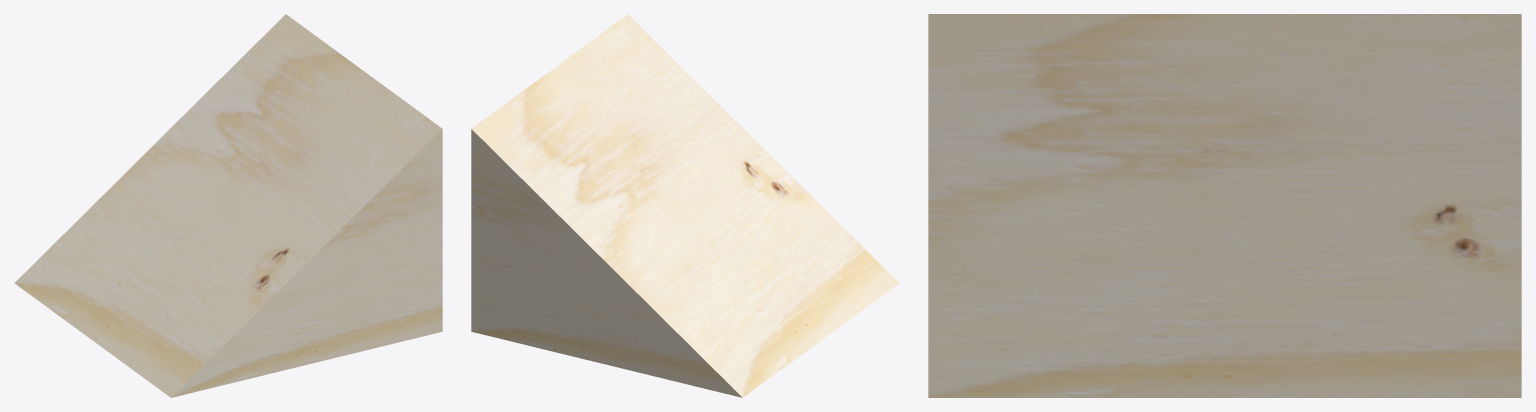
Rendered from WoodPyramid.FBX.
3 views of the same model, side by side, from view 1: azimuth 30°, elevation 25°; view 2: azimuth 150°, elevation 25°; view 3: azimuth 270°, elevation 25° (orthographic). The views are drawn at different scales.
Visible parts, largest first — view 1: Box001; view 2: Box001; view 3: Box001.
Boxes of the visible parts, x1,y1,x2,y2 form: Box001: (14, 14, 442, 397); Box001: (471, 14, 899, 397); Box001: (928, 14, 1521, 397).
Size of the model in its own units: 140 by 100 by 140.
Materials: 1 (1 with a texture image).
